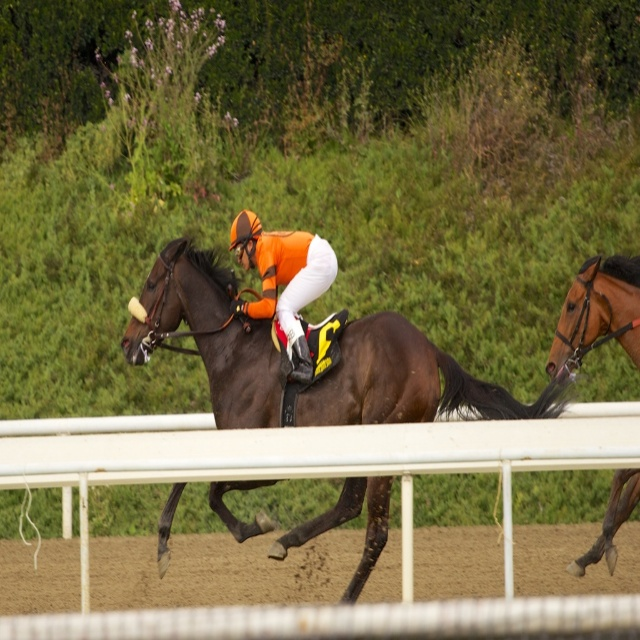Horse: (121, 230, 594, 606), (545, 250, 640, 576)
